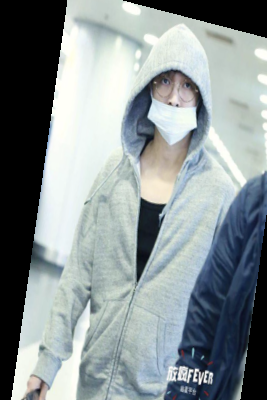mask_weared_incorrect: (131, 15, 228, 159)
